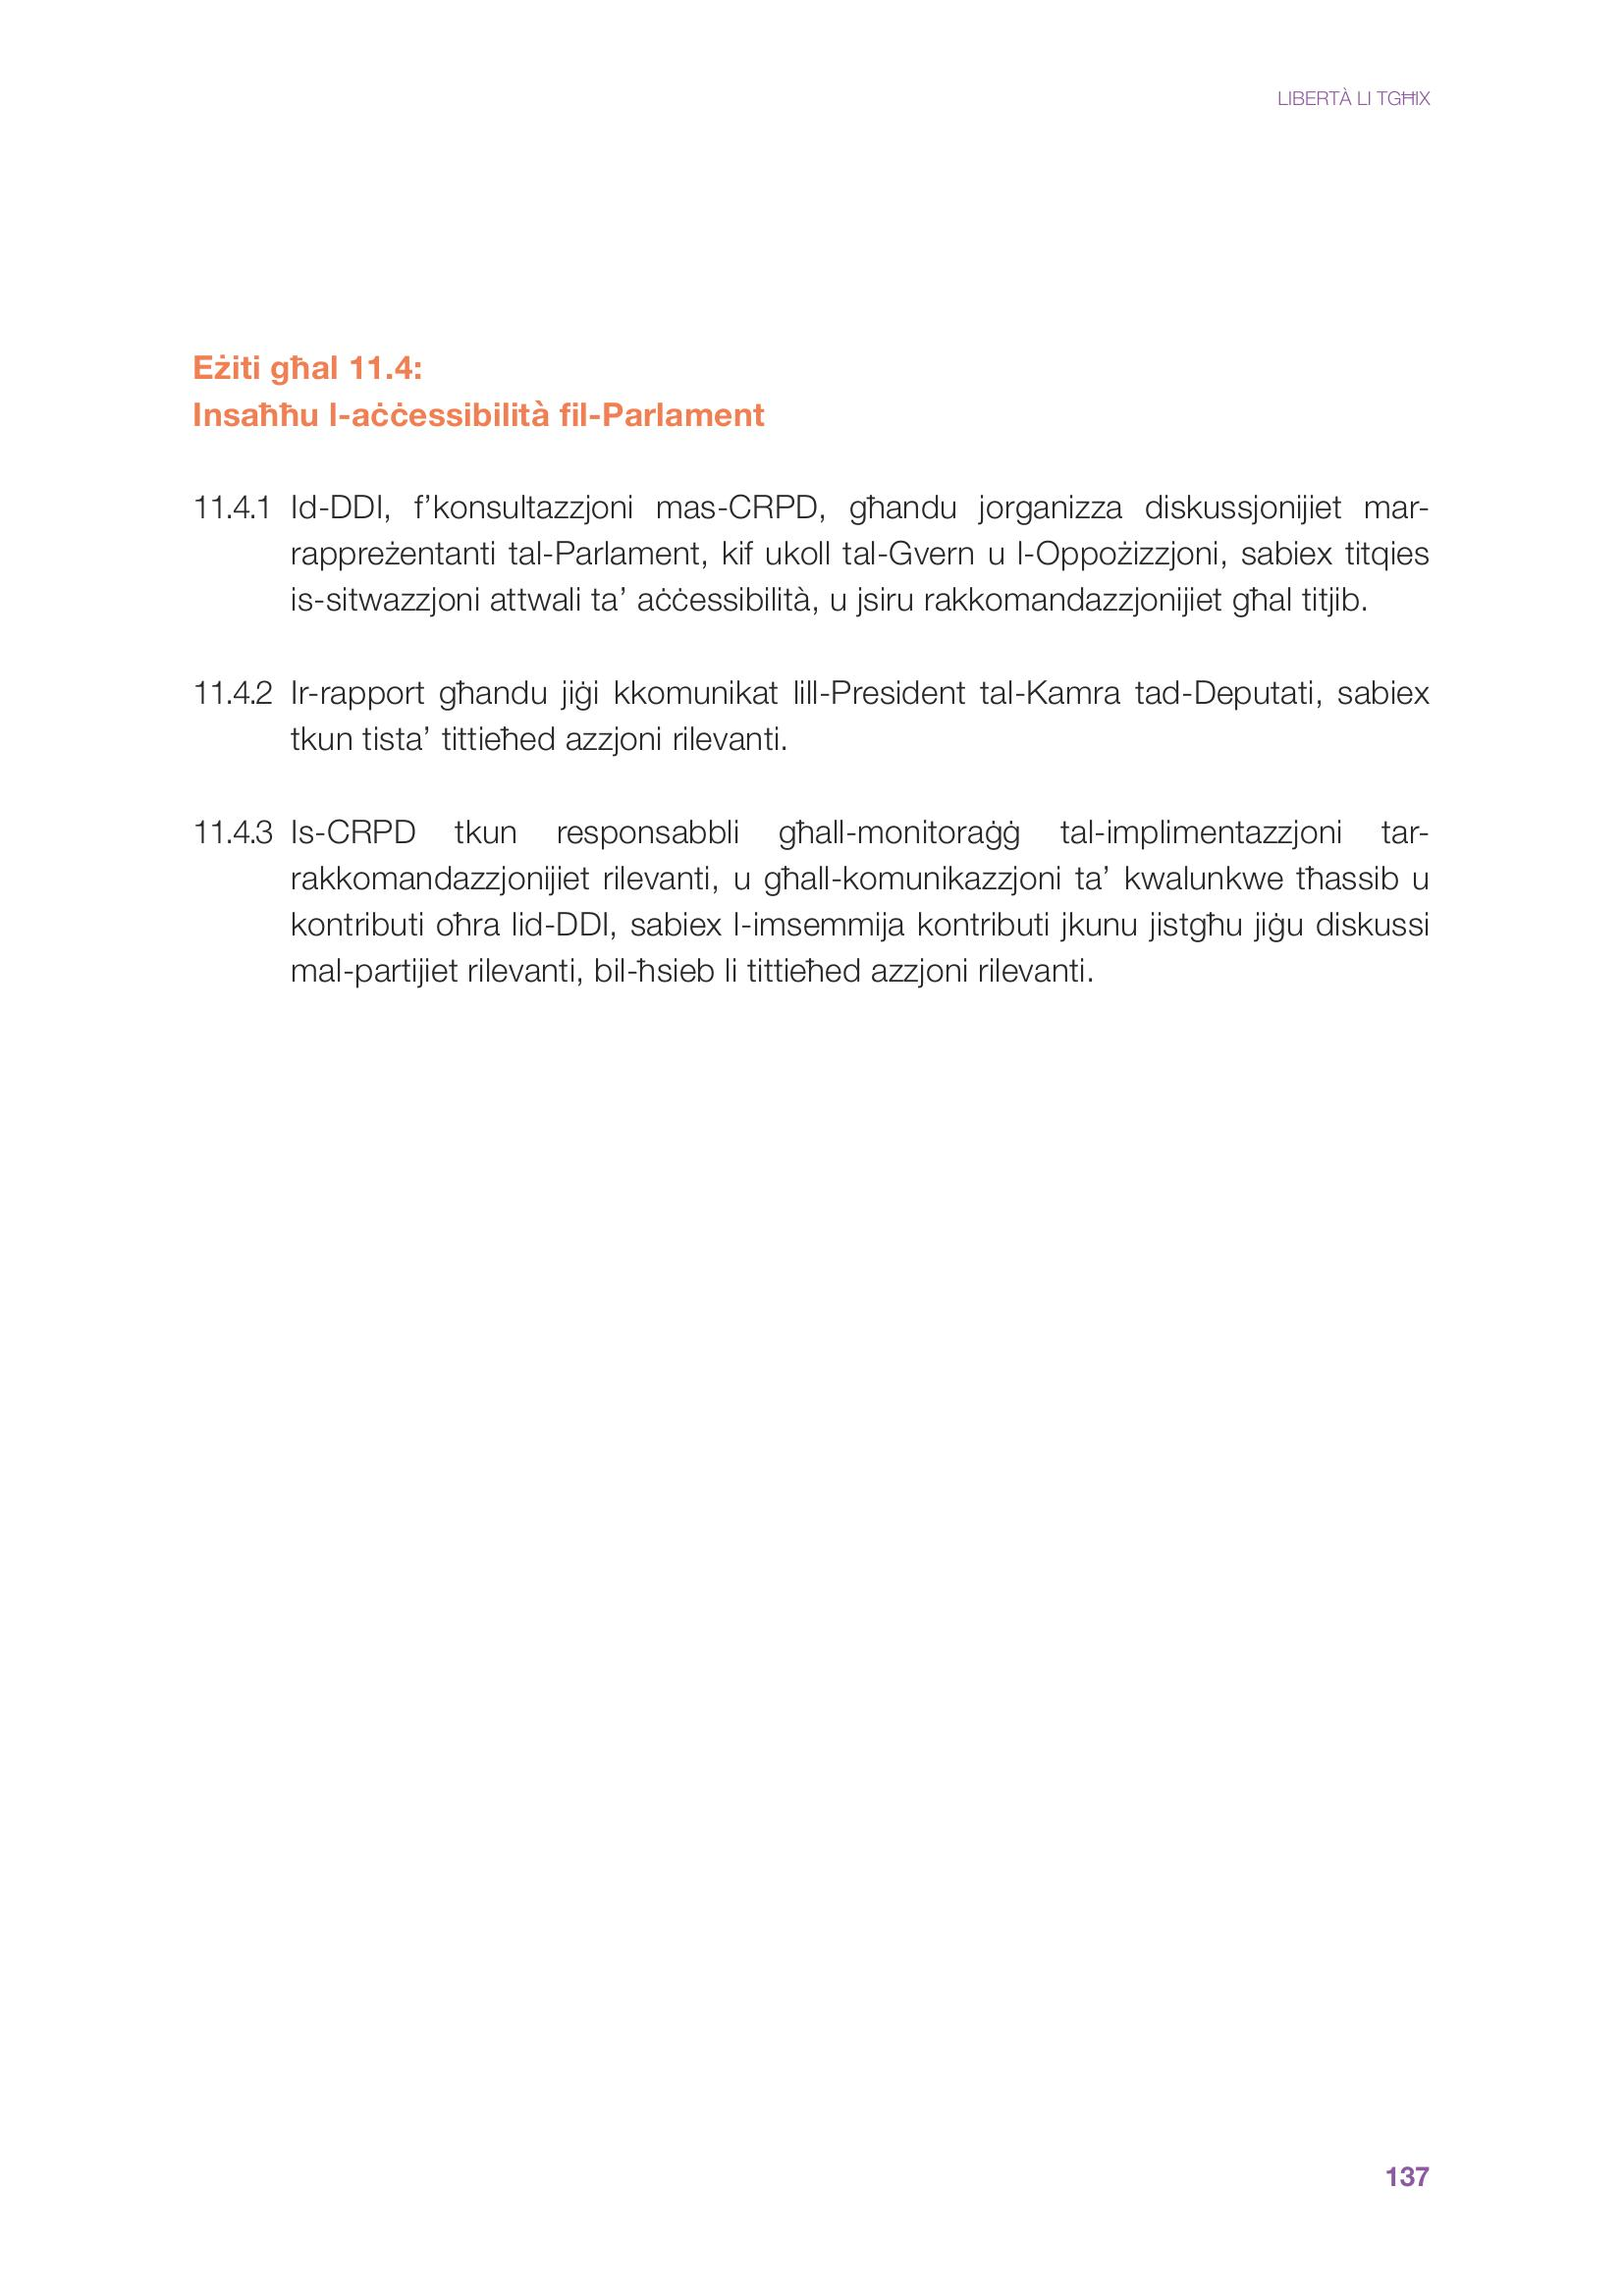text: (169, 330, 1459, 1028)
